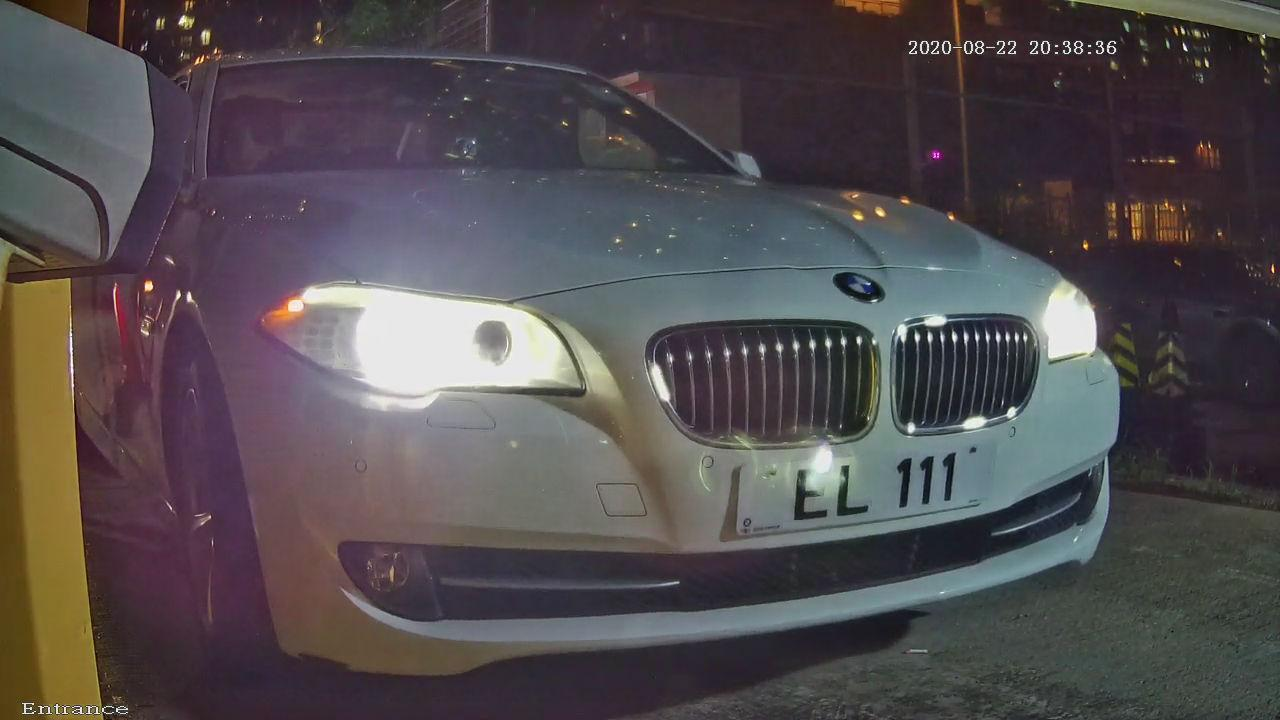Car: (23, 7, 1218, 701)
License Plate: (701, 385, 1015, 576)
